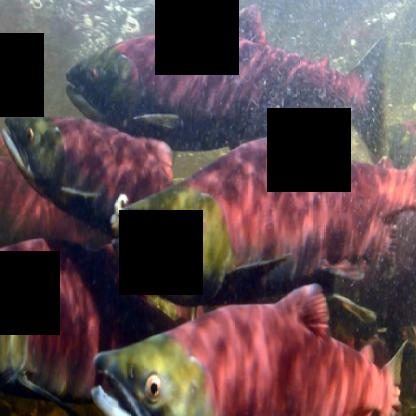fish: (108, 131, 416, 340), (64, 0, 390, 163)
